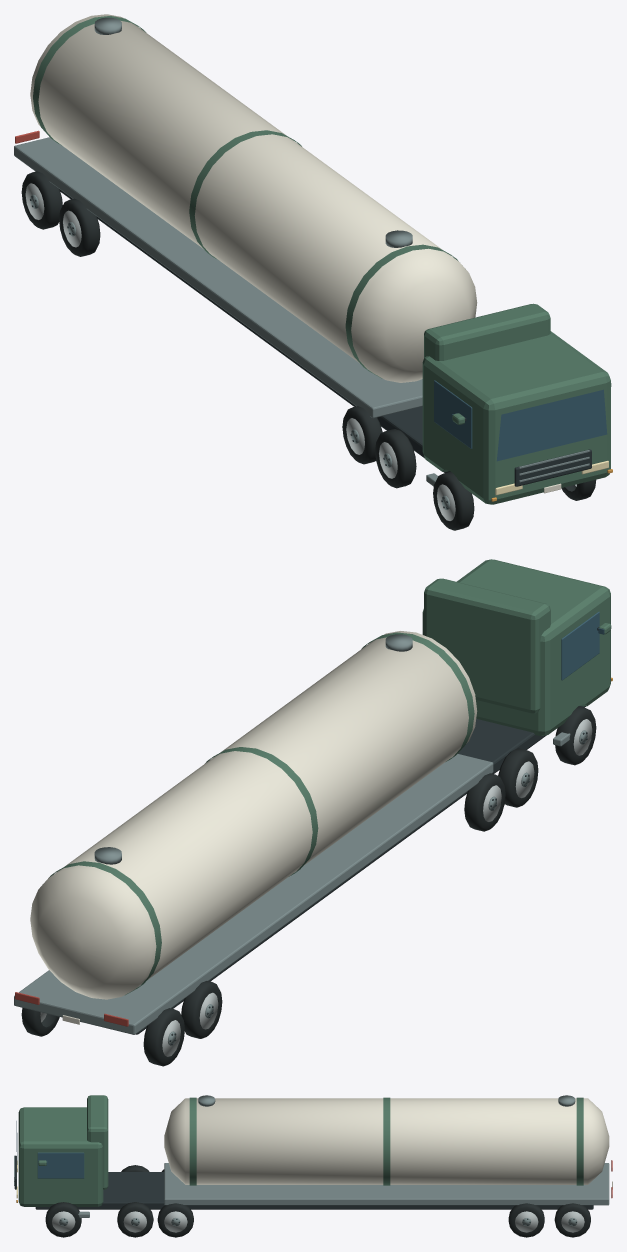
Rendered from original-trailer-tanker-06.glb.
The picture shows the model from 3 angles, top to bottom: view 1: azimuth 30°, elevation 25°; view 2: azimuth 150°, elevation 25°; view 3: azimuth 270°, elevation 25°; orthographic projection. The views are drawn at different scales.
Parts seen in each view (by area): view 1: Tank, TruckCab, TrailerFrame, TruckWindscreen, TractorSleeper, Frame, CabSideGlass, Tyre_A2R, Tyre_A4R, Tyre_FR, Tyre_RR, CabGrille (+4 smaller); view 2: Tank, TrailerFrame, TractorSleeper, TruckCab, Frame, CabSideGlass, Tyre_A3R, Tyre_RR, Tyre_A4R, Tyre_A2R, Tyre_FR, TankBand.002 (+3 smaller); view 3: Tank, TrailerFrame, TruckCab, Frame, TractorSleeper, CabSideGlass.001, TankBand, TankBand.001, TankBand.002, Tyre_A2L, Tyre_FL, Tyre_A4L (+7 smaller).
Part boxes in pixels (left/top/right/bottom): Tank: left=30, top=14, right=477, bottom=382; TruckCab: left=422, top=331, right=610, bottom=504; TrailerFrame: left=14, top=137, right=422, bottom=418; TruckWindscreen: left=496, top=389, right=607, bottom=461; TractorSleeper: left=424, top=303, right=550, bottom=360; Frame: left=59, top=189, right=450, bottom=472; CabSideGlass: left=434, top=380, right=472, bottom=448; Tyre_A2R: left=375, top=429, right=416, bottom=488; Tyre_A4R: left=59, top=198, right=100, bottom=256; Tyre_FR: left=433, top=472, right=474, bottom=530; Tyre_RR: left=21, top=171, right=62, bottom=229; CabGrille: left=514, top=449, right=591, bottom=486; Tank: left=30, top=631, right=477, bottom=999; TrailerFrame: left=14, top=754, right=493, bottom=1034; TractorSleeper: left=424, top=578, right=550, bottom=713; TruckCab: left=422, top=559, right=610, bottom=735; Frame: left=136, top=706, right=585, bottom=1034; CabSideGlass: left=561, top=611, right=599, bottom=680; Tyre_A3R: left=464, top=773, right=505, bottom=831; Tyre_RR: left=143, top=1008, right=184, bottom=1066; Tyre_A4R: left=181, top=981, right=222, bottom=1038; Tyre_A2R: left=498, top=748, right=538, bottom=807; Tyre_FR: left=555, top=706, right=596, bottom=765; TankBand.002: left=42, top=861, right=161, bottom=995; Tank: left=164, top=1098, right=609, bottom=1184; TrailerFrame: left=164, top=1163, right=609, bottom=1205; TruckCab: left=18, top=1107, right=103, bottom=1206; Frame: left=35, top=1172, right=593, bottom=1209; TractorSleeper: left=87, top=1095, right=108, bottom=1189; CabSideGlass.001: left=37, top=1152, right=84, bottom=1178; TankBand: left=189, top=1097, right=196, bottom=1185; TankBand.001: left=383, top=1097, right=390, bottom=1185; TankBand.002: left=576, top=1097, right=583, bottom=1185; Tyre_A2L: left=117, top=1202, right=153, bottom=1237; Tyre_FL: left=45, top=1202, right=81, bottom=1237; Tyre_A4L: left=508, top=1203, right=544, bottom=1237.
Size of the model in its own units: 2.85 by 3.4 by 15.54.
